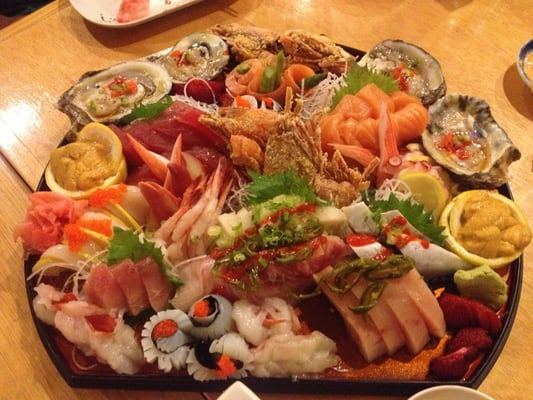sushi: (407, 384, 498, 400)
